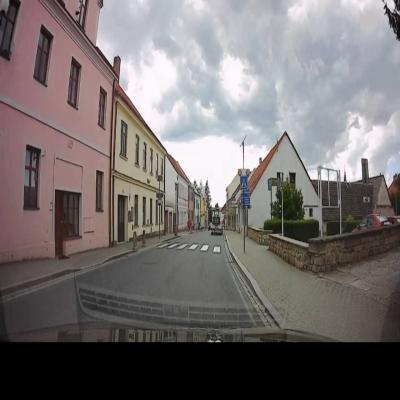clear-road: (76, 232, 243, 303)
